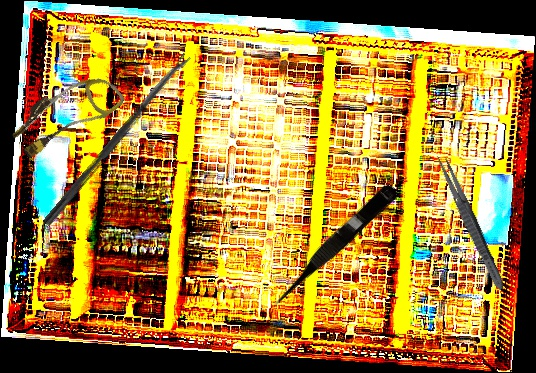Cannula: (5, 58, 127, 170)
Dressing Forceps: (432, 151, 509, 293)
Micro Scissor: (262, 178, 401, 314)
Surgical Spoon: (42, 52, 192, 228)
